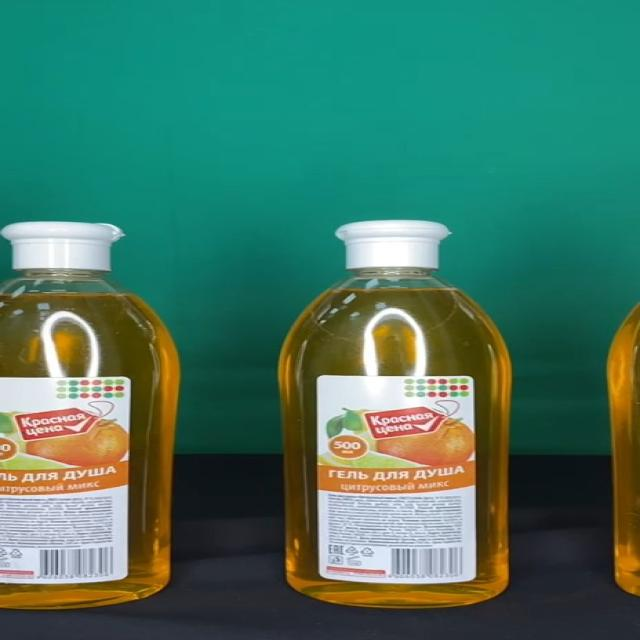Bottle: (276, 220, 511, 608), (0, 221, 182, 609)
Cap: (0, 221, 126, 272), (336, 220, 454, 268)
